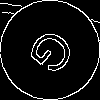G: (25, 25, 85, 84)
